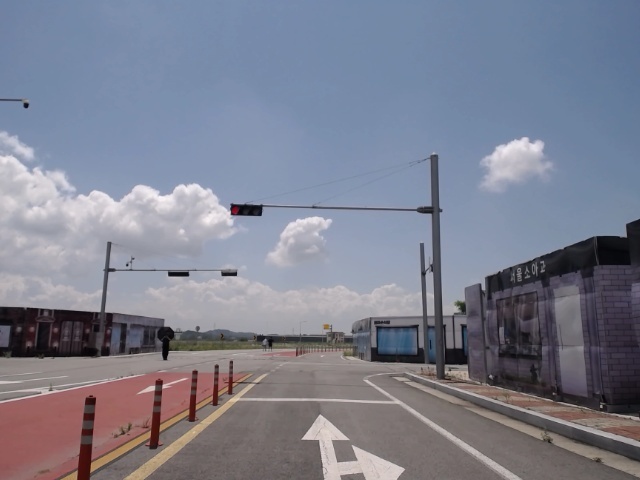red_3: (228, 203, 265, 217)
